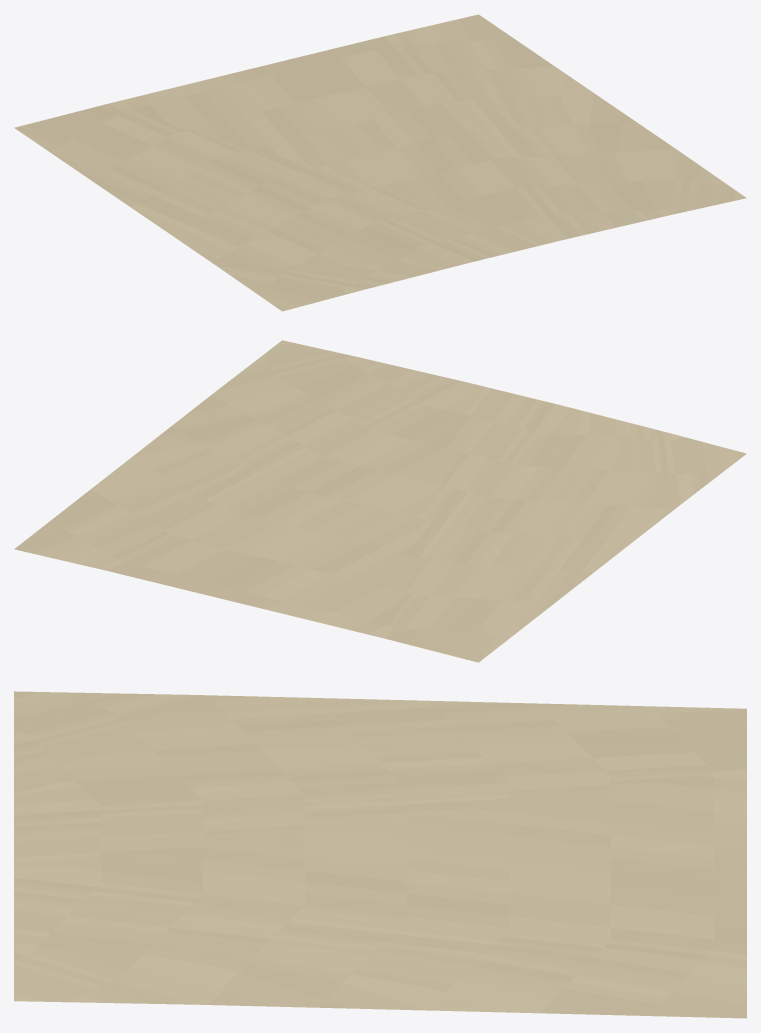
The model's file is tank_large_roof_2_1.obj.
3 views of the same model, one above another, from view 1: azimuth 30°, elevation 25°; view 2: azimuth 150°, elevation 25°; view 3: azimuth 270°, elevation 25° (orthographic). The views are drawn at different scales.
Parts seen in each view (by area): view 1: tank_large_roof_2_1; view 2: tank_large_roof_2_1; view 3: tank_large_roof_2_1.
Part boxes in pixels (bbox=[...]): tank_large_roof_2_1: bbox=[14, 14, 746, 311]; tank_large_roof_2_1: bbox=[14, 340, 746, 662]; tank_large_roof_2_1: bbox=[14, 691, 746, 1018].
Bounding box in the file's own units: 3 × 0.0966 × 3.
